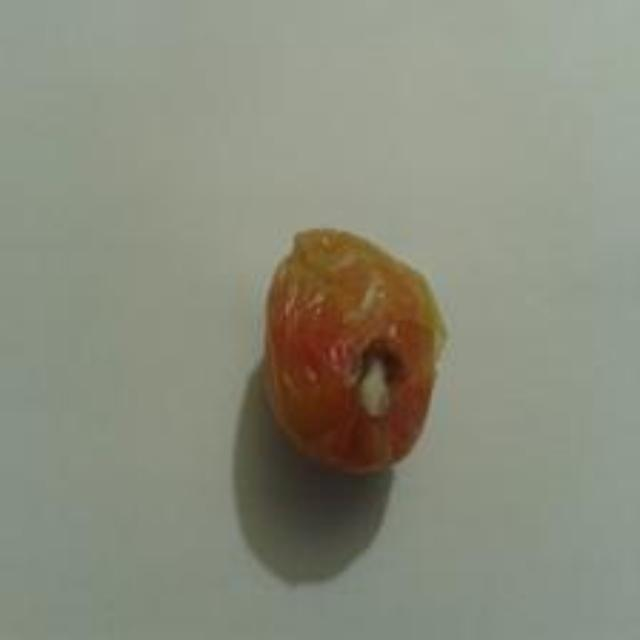defect: (250, 207, 463, 500)
